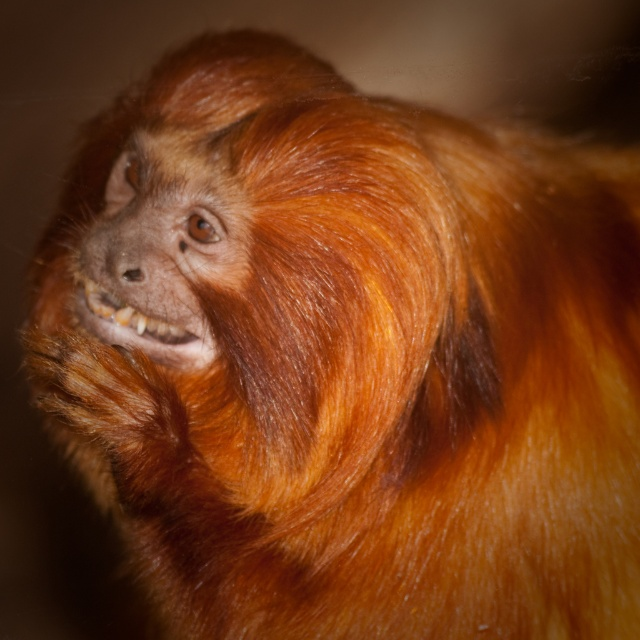Monkey: (19, 30, 640, 640)
